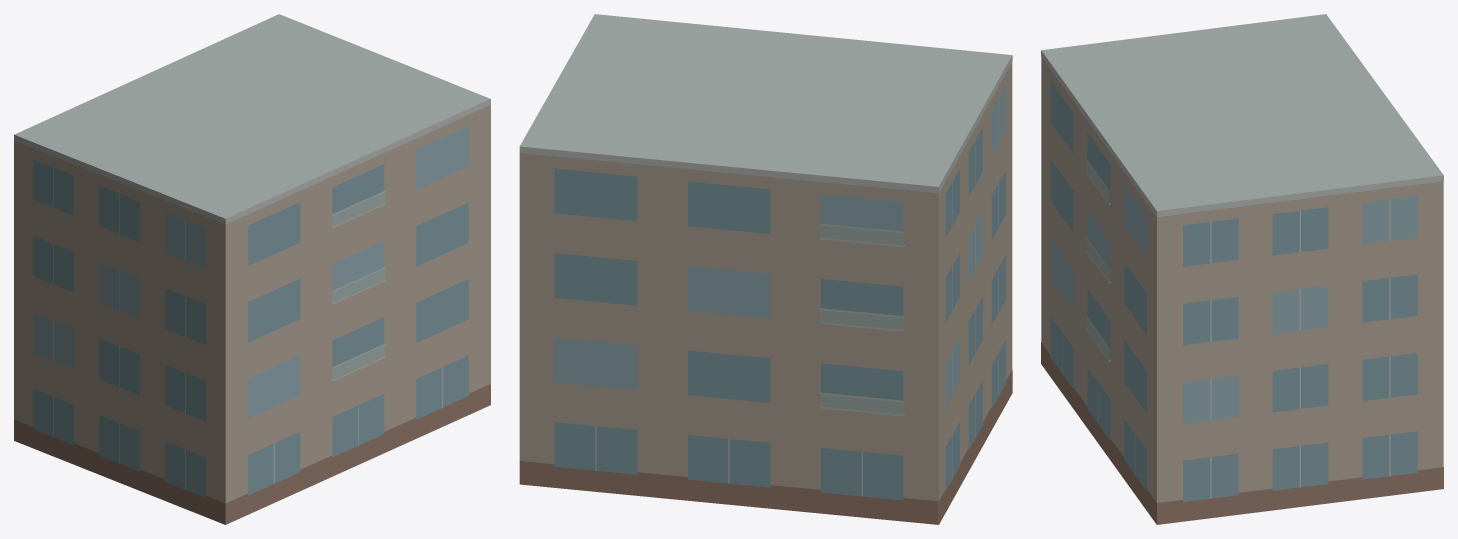
Rendered from survey-upis-32611800.glb.
3 views of the same model, side by side, from view 1: azimuth 30°, elevation 25°; view 2: azimuth 150°, elevation 25°; view 3: azimuth 270°, elevation 25° (orthographic). The views are drawn at different scales.
Visible parts, largest first — view 1: survey-upis-32611800.tmp; view 2: survey-upis-32611800.tmp; view 3: survey-upis-32611800.tmp.
Part boxes in pixels (x1=…): survey-upis-32611800.tmp: x1=14, y1=14, x2=490, y2=524; survey-upis-32611800.tmp: x1=519, y1=14, x2=1012, y2=524; survey-upis-32611800.tmp: x1=1041, y1=14, x2=1443, y2=524.
Bounding box in the file's own units: 17.26 × 12.8 × 14.9.
